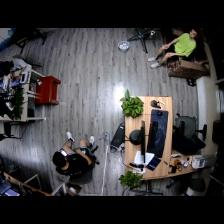normal: (148, 29, 199, 69), (54, 129, 93, 177), (2, 55, 33, 72)
